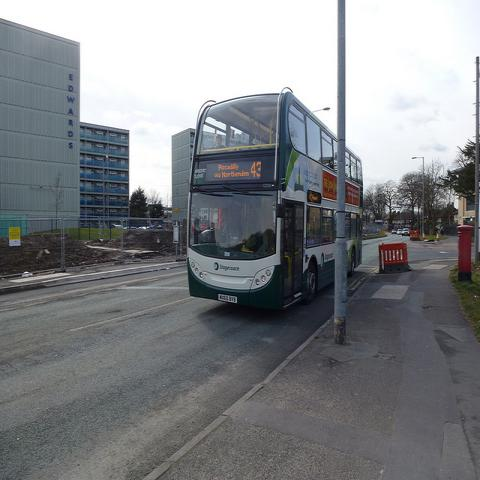bus: (186, 87, 361, 312)
car: (402, 227, 410, 236), (396, 228, 403, 236), (391, 229, 396, 234)
